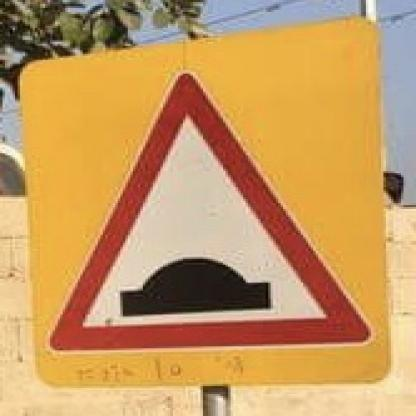Speed Breaker Ahead: (14, 17, 393, 388)
